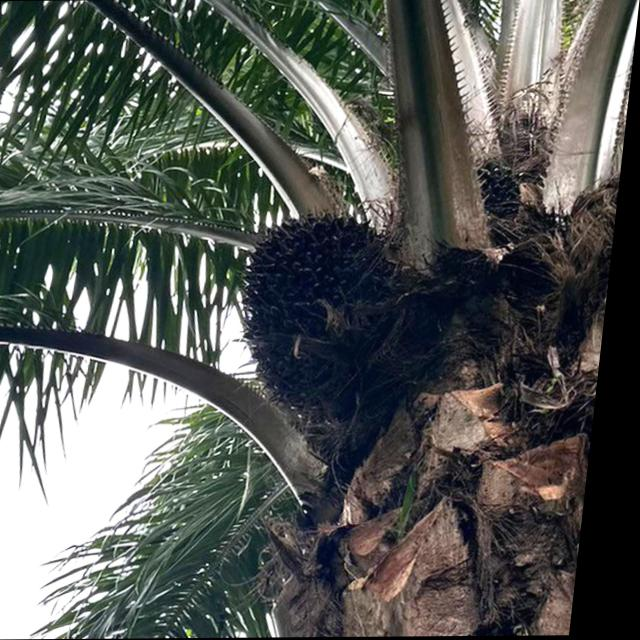ripe: (237, 210, 434, 423), (477, 154, 532, 228)
